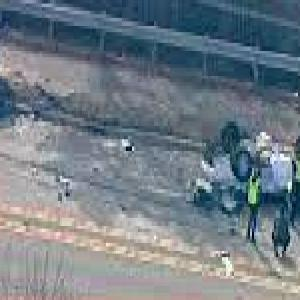serious: (194, 107, 300, 218)
